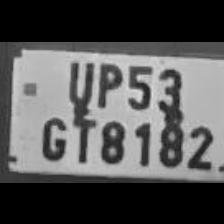1: (127, 116, 155, 166)
2: (182, 119, 214, 171)
3: (154, 64, 186, 114)
5: (122, 60, 154, 110)
8: (155, 114, 184, 168), (96, 114, 127, 164)
G: (37, 112, 69, 160)
P: (92, 58, 124, 108)
T: (68, 109, 96, 161)
U: (62, 56, 94, 110)
